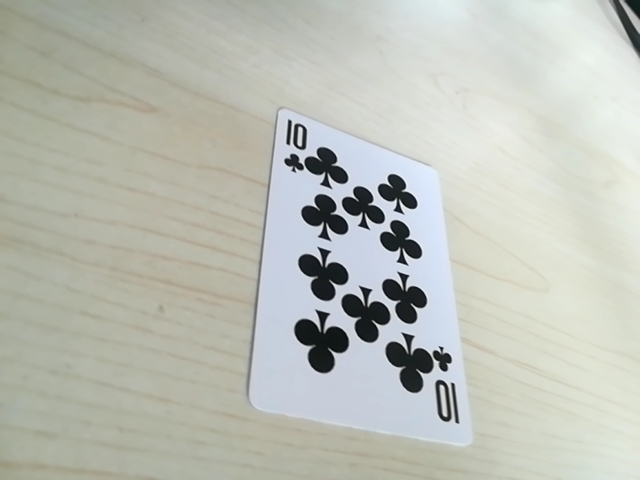mh 10: (276, 115, 325, 181), (421, 352, 461, 424)
